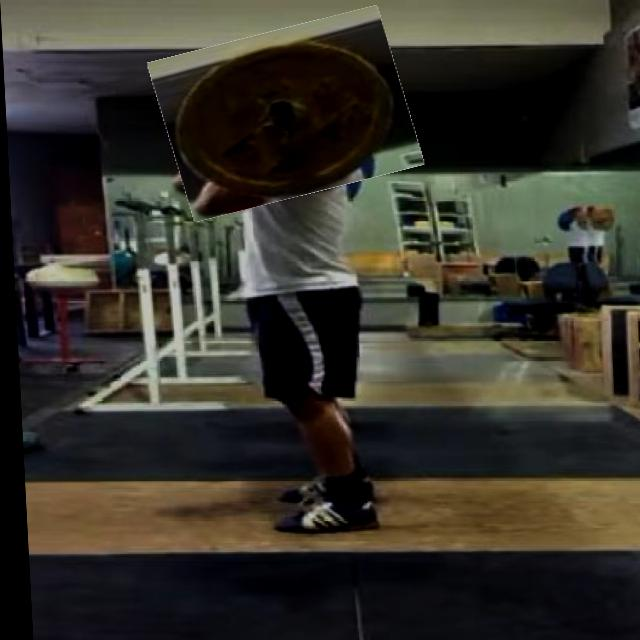barbell: (154, 20, 418, 210)
